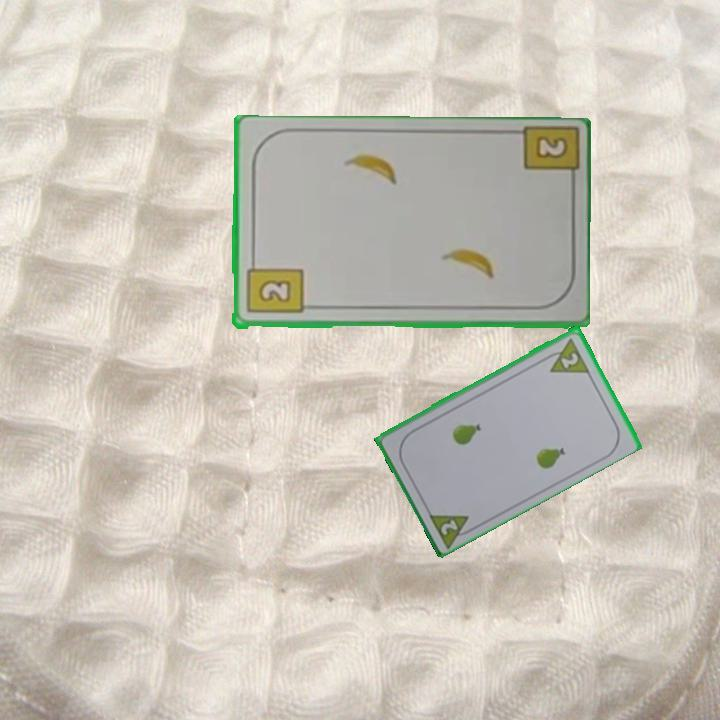2b: (243, 256, 305, 317), (531, 133, 570, 162)
2p: (424, 508, 479, 549), (540, 334, 592, 376)
